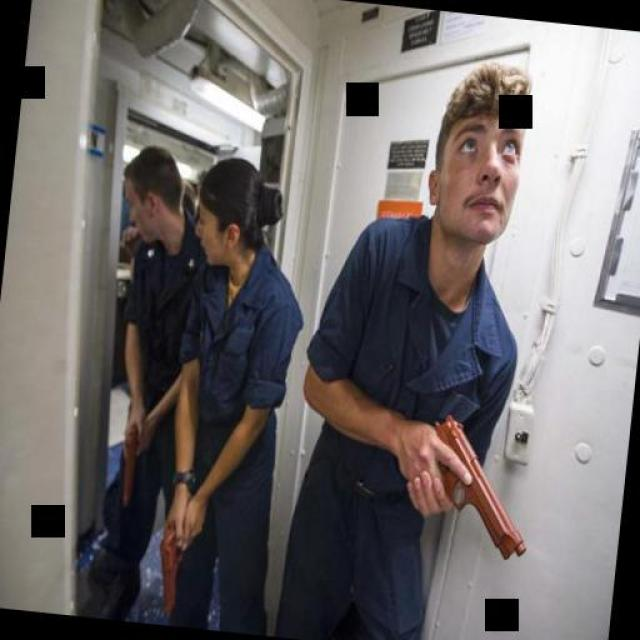gun: (412, 404, 538, 575), (152, 512, 192, 618), (112, 416, 146, 510)
